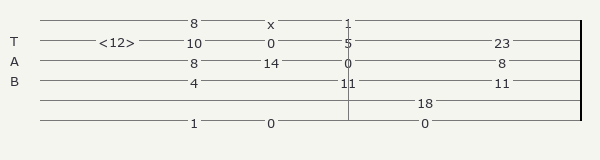0: (267, 114, 279, 127), (267, 34, 279, 47), (344, 54, 356, 67), (421, 114, 433, 127)
1: (190, 114, 202, 127), (344, 14, 356, 27)
10: (186, 34, 206, 47)
11: (340, 74, 360, 87), (494, 74, 514, 87)
14: (263, 54, 283, 67)
18: (417, 94, 437, 107)
23: (494, 34, 514, 47)
4: (190, 74, 202, 87)
5: (344, 34, 356, 47)
8: (190, 14, 202, 27), (190, 54, 202, 67), (498, 54, 510, 67)
harmonic: (98, 33, 140, 47)
x: (267, 15, 279, 26)
